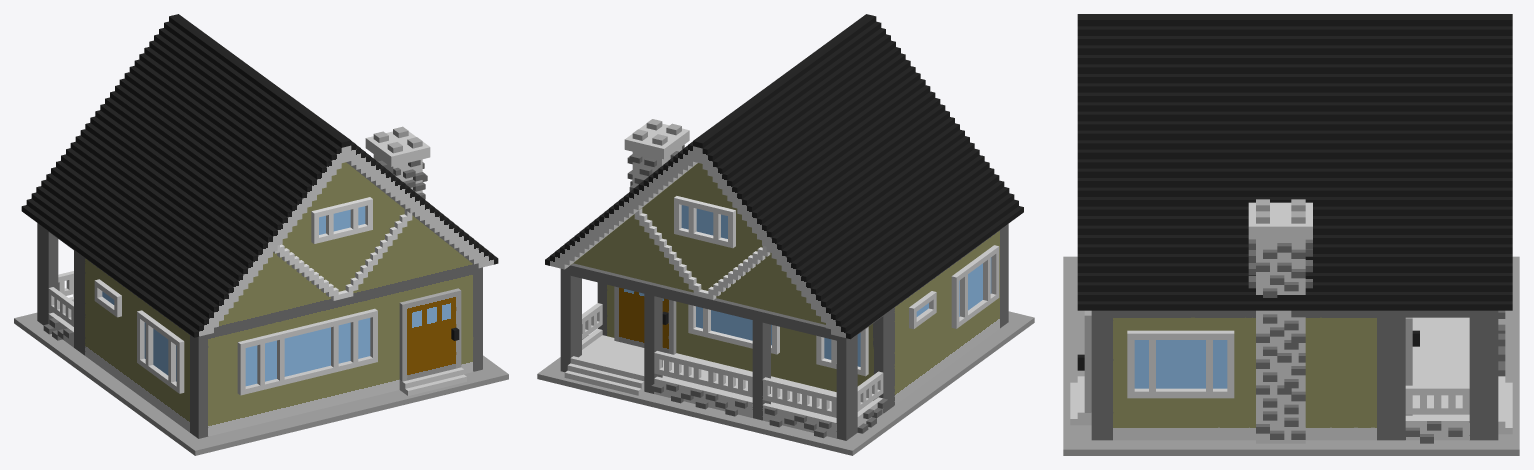
Rendered from obj_house3.fbx.
The picture shows the model from 3 angles, left to right: view 1: azimuth 30°, elevation 25°; view 2: azimuth 150°, elevation 25°; view 3: azimuth 270°, elevation 25°; orthographic projection. The views are drawn at different scales.
Visible parts, largest first — view 1: obj_house3; view 2: obj_house3; view 3: obj_house3.
Part boxes in pixels (left/top/right/bottom): obj_house3: left=14, top=14, right=508, bottom=455; obj_house3: left=537, top=14, right=1034, bottom=455; obj_house3: left=1063, top=14, right=1519, bottom=455.
Size of the model in its own units: 6.4 by 6.4 by 5.3.
1 material, 1 textured.
